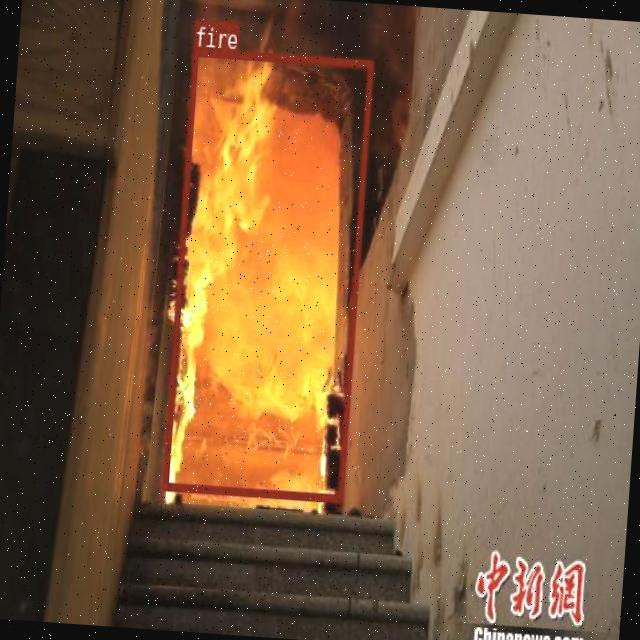fire: (162, 46, 372, 501)
